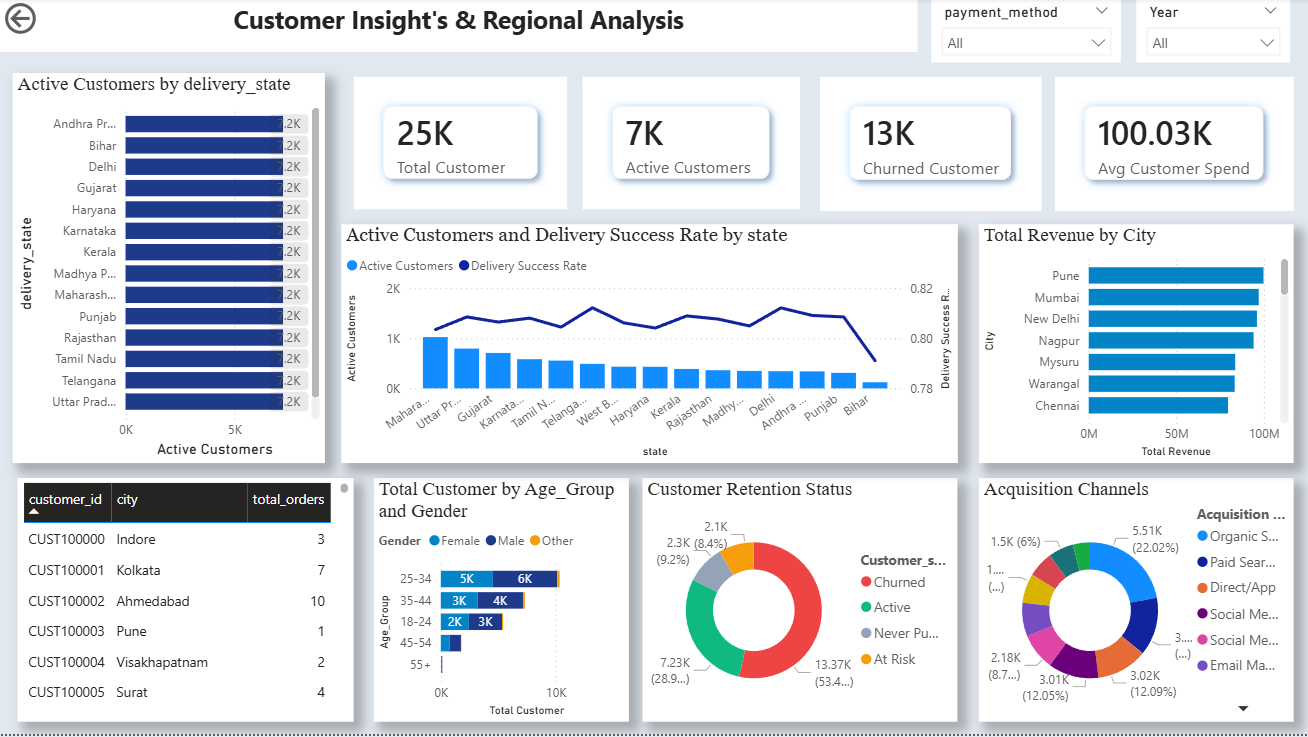

What the dashboard file says about the page in this screenshot:
{"tool":"powerbi","page":{"name":"Customer Insights ","canvas":[1280,720],"ordinal":1},"visuals":[{"type":"textbox","box":[0,0,897.6,52.6],"z":0},{"type":"barChart","fields":{"Category":["orders.delivery_state"],"Y":["Dim_Date.Active Customers"]},"box":[12.2,73.4,305.7,381.5],"z":1000},{"type":"barChart","fields":{"Category":["customers.age_group"],"Y":["Dim_Date.Total Customer"],"Series":["customers.gender"]},"box":[365.6,469.6,249.5,238.5],"z":2000},{"type":"donutChart","title":"Acquisition Channels","fields":{"Category":["customers.acquisition_channel"],"Y":["CountNonNull(customers.customer_id)"]},"box":[957.5,469.6,308.2,238.5],"z":3000},{"type":"actionButton","box":[0,0,100,40],"z":4000},{"type":"cardVisual","fields":{"Data":["Dim_Date.Total Customer"]},"box":[346.1,77,209.1,129.6],"z":5000},{"type":"cardVisual","fields":{"Data":["Dim_Date.Active Customers"]},"box":[569.8,77,212.8,129.6],"z":6000},{"type":"cardVisual","fields":{"Data":["Dim_Date.Churned Customer"]},"box":[802.2,77,216.4,130.8],"z":7000},{"type":"cardVisual","fields":{"Data":["Dim_Date.Avg Customer Spend"]},"box":[1032.1,77,233.6,130.8],"z":8000},{"type":"donutChart","title":"Customer Retention Status","fields":{"Category":["customers.customer_status"],"Y":["CountNonNull(customers.customer_id)"]},"box":[628.5,469.6,308.2,238.5],"z":9000},{"type":"clusteredBarChart","fields":{"Category":["customers.city"],"Y":["Dim_Date.Total Revenue"]},"box":[957.5,221.3,308.2,233.6],"z":10000},{"type":"slicer","fields":{"Values":["Dim_Date.Year"]},"box":[1111.6,0,150.4,63.6],"z":11000},{"type":"tableEx","fields":{"Values":["customers.customer_id","customers.city","customers.total_orders"]},"box":[17.1,469.6,328.9,238.5],"z":12000},{"type":"lineStackedColumnComboChart","fields":{"Y2":["Dim_Date.Delivery Success Rate"],"Y":["Dim_Date.Active Customers"],"Category":["customers.state"]},"box":[333.8,221.3,602.9,233.6],"z":13000},{"type":"slicer","fields":{"Values":["payments.payment_method"]},"box":[911,0,185.9,63.6],"z":14000}]}

Visuals, with their boxes in screenshot pixels (x1, y1, x2, y2), scaled from the page's 1280x720 canvas onto the 1308x737 screenshot:
textbox: {"left": 0, "top": 0, "right": 917, "bottom": 54}
barChart - orders.delivery_state x Dim_Date.Active Customers: {"left": 12, "top": 75, "right": 325, "bottom": 466}
barChart - customers.age_group x Dim_Date.Total Customer: {"left": 374, "top": 481, "right": 629, "bottom": 725}
"Acquisition Channels" donutChart: {"left": 978, "top": 481, "right": 1293, "bottom": 725}
actionButton: {"left": 0, "top": 0, "right": 102, "bottom": 41}
cardVisual - Dim_Date.Total Customer: {"left": 354, "top": 79, "right": 567, "bottom": 211}
cardVisual - Dim_Date.Active Customers: {"left": 582, "top": 79, "right": 800, "bottom": 211}
cardVisual - Dim_Date.Churned Customer: {"left": 820, "top": 79, "right": 1041, "bottom": 213}
cardVisual - Dim_Date.Avg Customer Spend: {"left": 1055, "top": 79, "right": 1293, "bottom": 213}
"Customer Retention Status" donutChart: {"left": 642, "top": 481, "right": 957, "bottom": 725}
clusteredBarChart - customers.city x Dim_Date.Total Revenue: {"left": 978, "top": 227, "right": 1293, "bottom": 466}
slicer - Dim_Date.Year: {"left": 1136, "top": 0, "right": 1290, "bottom": 65}
tableEx - customers.customer_id x customers.city: {"left": 17, "top": 481, "right": 354, "bottom": 725}
lineStackedColumnComboChart - Dim_Date.Delivery Success Rate x Dim_Date.Active Customers: {"left": 341, "top": 227, "right": 957, "bottom": 466}
slicer - payments.payment_method: {"left": 931, "top": 0, "right": 1121, "bottom": 65}
